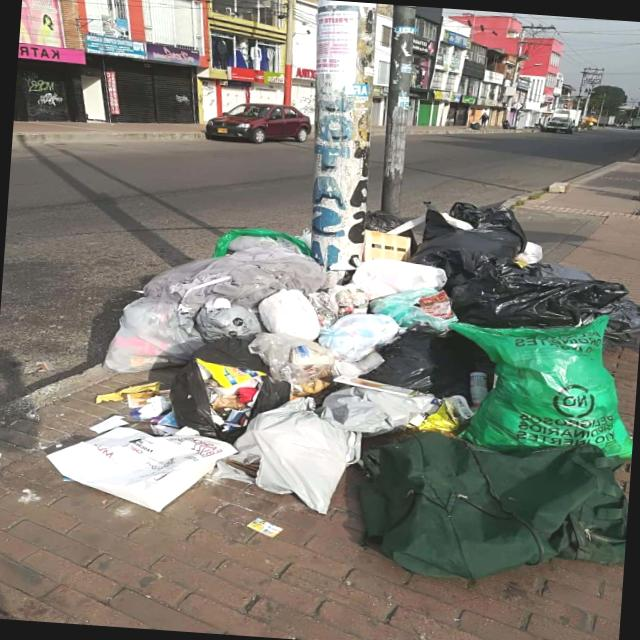garbage: (85, 172, 640, 593)
